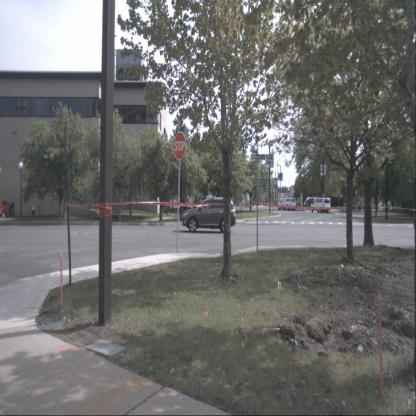human-pedestrian-adult: (10, 199, 14, 217)
vehicle-car: (181, 197, 236, 233), (310, 197, 330, 213), (0, 199, 15, 219), (278, 198, 296, 211), (304, 197, 318, 210)
